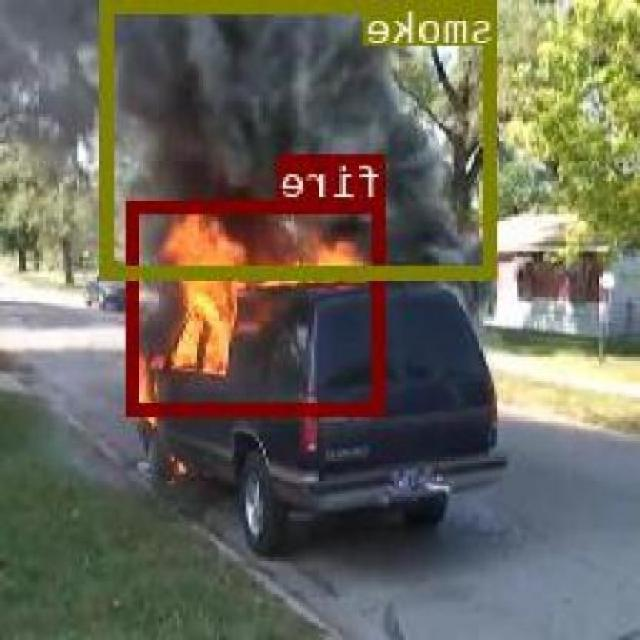Fire: (130, 198, 386, 414)
Smoke: (103, 0, 500, 277)
